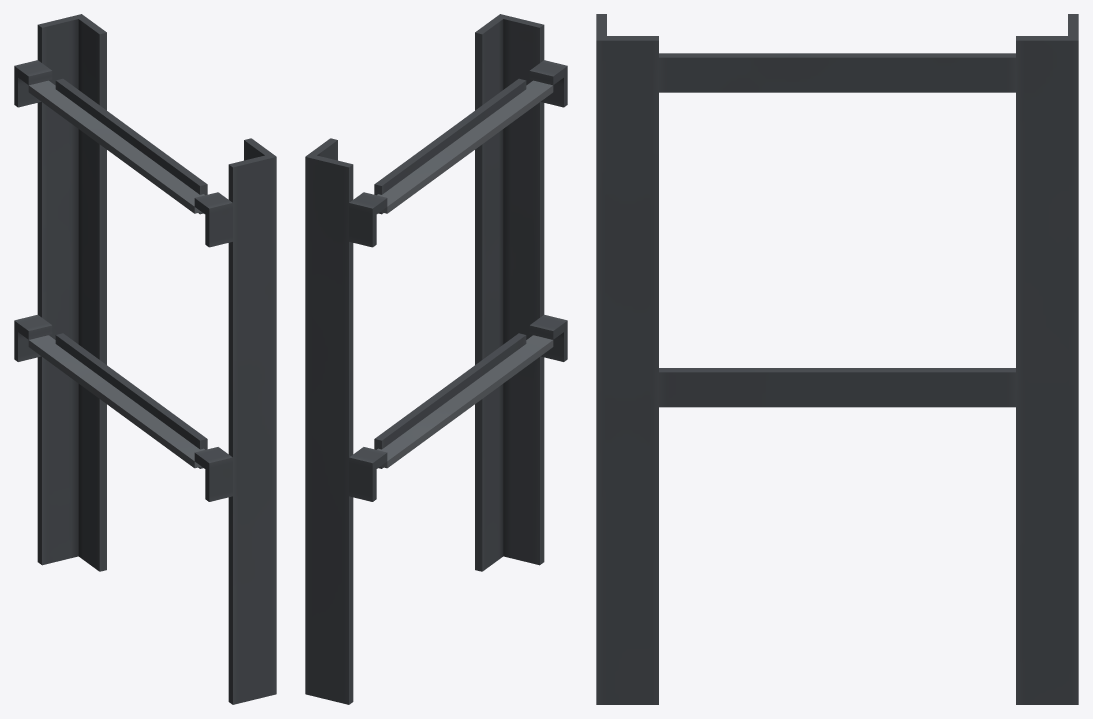
Rendered from end_right_upper.obj.
The picture shows the model from 3 angles, left to right: view 1: azimuth 30°, elevation 25°; view 2: azimuth 150°, elevation 25°; view 3: azimuth 270°, elevation 25°; orthographic projection. The views are drawn at different scales.
Visible parts, largest first — view 1: end_right_upper__end_right_upper_posts, end_right_upper__end_right_upper_beams, end_right_upper__end_right_upper_deck; view 2: end_right_upper__end_right_upper_posts, end_right_upper__end_right_upper_beams, end_right_upper__end_right_upper_deck; view 3: end_right_upper__end_right_upper_posts, end_right_upper__end_right_upper_beams.
Boxes of the visible parts, x1=… form: end_right_upper__end_right_upper_posts: x1=37, y1=14, x2=276, y2=704; end_right_upper__end_right_upper_beams: x1=14, y1=60, x2=232, y2=501; end_right_upper__end_right_upper_deck: x1=28, y1=80, x2=204, y2=468; end_right_upper__end_right_upper_posts: x1=305, y1=14, x2=544, y2=704; end_right_upper__end_right_upper_beams: x1=349, y1=60, x2=567, y2=501; end_right_upper__end_right_upper_deck: x1=377, y1=80, x2=553, y2=468; end_right_upper__end_right_upper_posts: x1=596, y1=14, x2=1078, y2=704; end_right_upper__end_right_upper_beams: x1=659, y1=53, x2=1015, y2=407.
Bounding box in the file's own units: 0.125 × 0.95 × 0.625.
